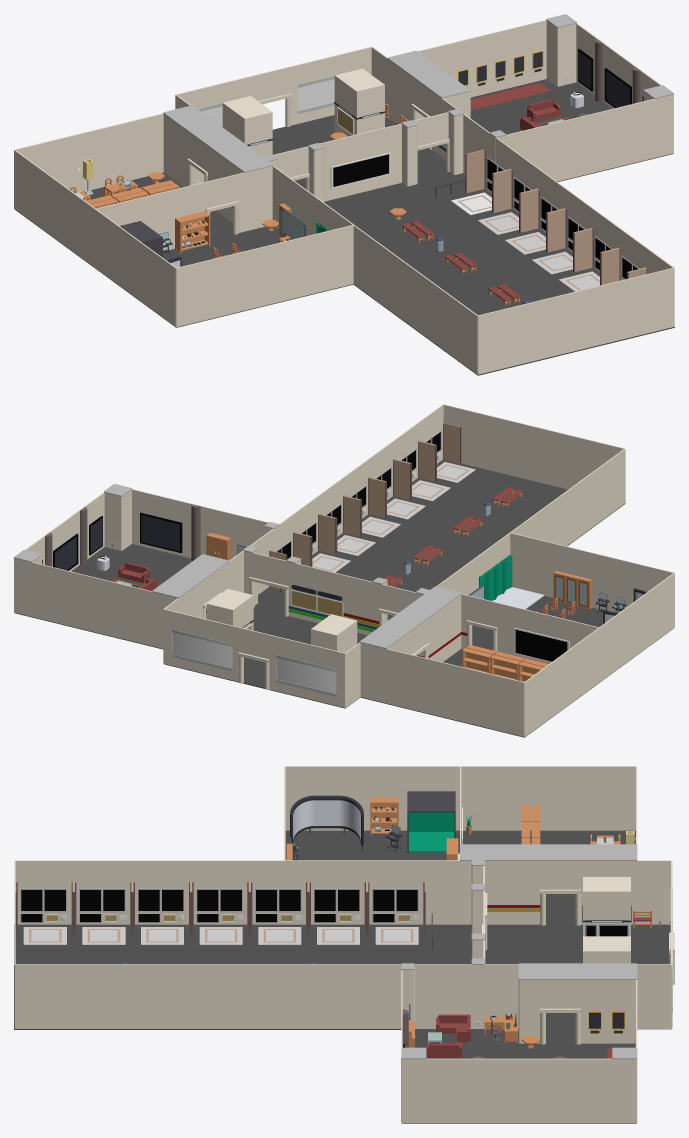
Rendered from Diorama_optimized.glb.
3 views of the same model, one above another, from view 1: azimuth 30°, elevation 25°; view 2: azimuth 150°, elevation 25°; view 3: azimuth 270°, elevation 25° (orthographic). The views are drawn at different scales.
Parts seen in each view (by area): view 1: mergedBlocks(Clone); view 2: mergedBlocks(Clone); view 3: mergedBlocks(Clone).
Boxes of the visible parts, x1,y1,x2,y2 form: mergedBlocks(Clone): [14, 14, 674, 375]; mergedBlocks(Clone): [14, 404, 674, 737]; mergedBlocks(Clone): [14, 766, 674, 1123].
Size of the model in its own units: 59.13 by 6.48 by 56.36.
Materials: 1 (1 with a texture image).
